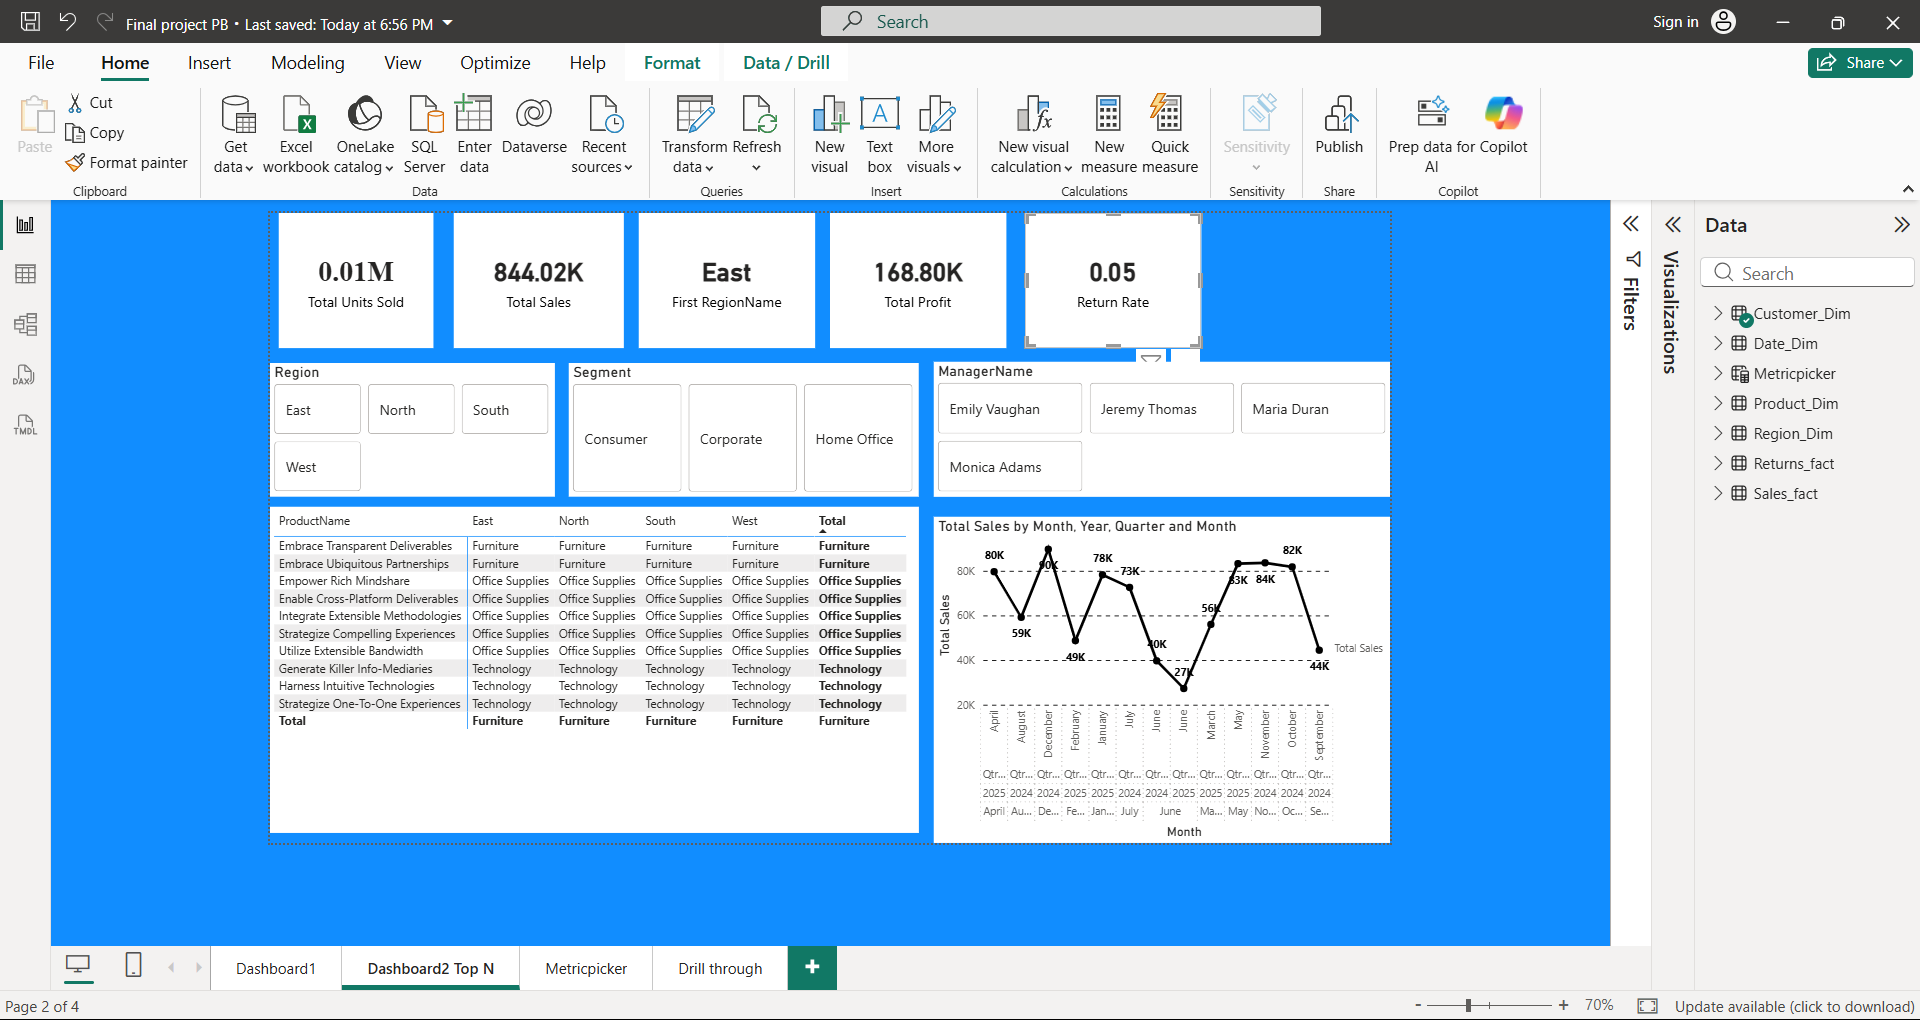

This screenshot's page, from the dashboard's own definition file:
{"tool":"powerbi","page":{"name":"Dashboard2","canvas":[1280,720],"ordinal":1},"visuals":[{"type":"card","fields":{"Values":["Customer_Dim.Total Units Sold"]},"box":[10,0,177.1,154.3],"z":0},{"type":"card","fields":{"Values":["Customer_Dim.Total Profit"]},"box":[640,0,201.4,154.3],"z":1000},{"type":"card","fields":{"Values":["Min(Region_Dim.RegionName)"]},"box":[421.4,0,201.4,154.3],"z":2000},{"type":"card","fields":{"Values":["Customer_Dim.Total Sales"]},"box":[210,0,194.3,154.3],"z":3000},{"type":"card","fields":{"Values":["Customer_Dim.Return Rate"]},"box":[868.6,0,201.4,154.3],"z":4000},{"type":"lineChart","fields":{"Y":["Customer_Dim.Total Sales"],"Category":["Date_Dim.Month","Date_Dim.Date.Variation.Date Hierarchy.Year","Date_Dim.Date.Variation.Date Hierarchy.Quarter","Date_Dim.Date.Variation.Date Hierarchy.Month"]},"box":[758.6,347.1,521.4,372.9],"z":5000},{"type":"pivotTable","fields":{"Rows":["Product_Dim.ProductName"],"Columns":["Region_Dim.RegionName"],"Values":["Min(Product_Dim.Category)"]},"box":[0,335.7,741.4,372.9],"z":6000},{"type":"advancedSlicerVisual","fields":{"Values":["Customer_Dim.Region"]},"box":[0,171.4,325.7,152.9],"z":7000},{"type":"advancedSlicerVisual","fields":{"Values":["Customer_Dim.Segment"]},"box":[341.4,171.4,400,152.9],"z":8000},{"type":"advancedSlicerVisual","fields":{"Values":["Region_Dim.ManagerName"]},"box":[758.6,170,521.4,154.3],"z":9000}]}

Visuals, with their boxes on the page's 1280x720 design canvas (x1, y1, x2, y2). These are canvas units, not pixel positions in the 1920x1020 screenshot, which may show the page scaled, cropped or inside an application window:
card - Customer_Dim.Total Units Sold: 10,0,187,154
card - Customer_Dim.Total Profit: 640,0,841,154
card - Min(Region_Dim.RegionName): 421,0,623,154
card - Customer_Dim.Total Sales: 210,0,404,154
card - Customer_Dim.Return Rate: 869,0,1070,154
lineChart - Customer_Dim.Total Sales x Date_Dim.Month: 759,347,1280,720
pivotTable - Product_Dim.ProductName x Region_Dim.RegionName: 0,336,741,709
advancedSlicerVisual - Customer_Dim.Region: 0,171,326,324
advancedSlicerVisual - Customer_Dim.Segment: 341,171,741,324
advancedSlicerVisual - Region_Dim.ManagerName: 759,170,1280,324
